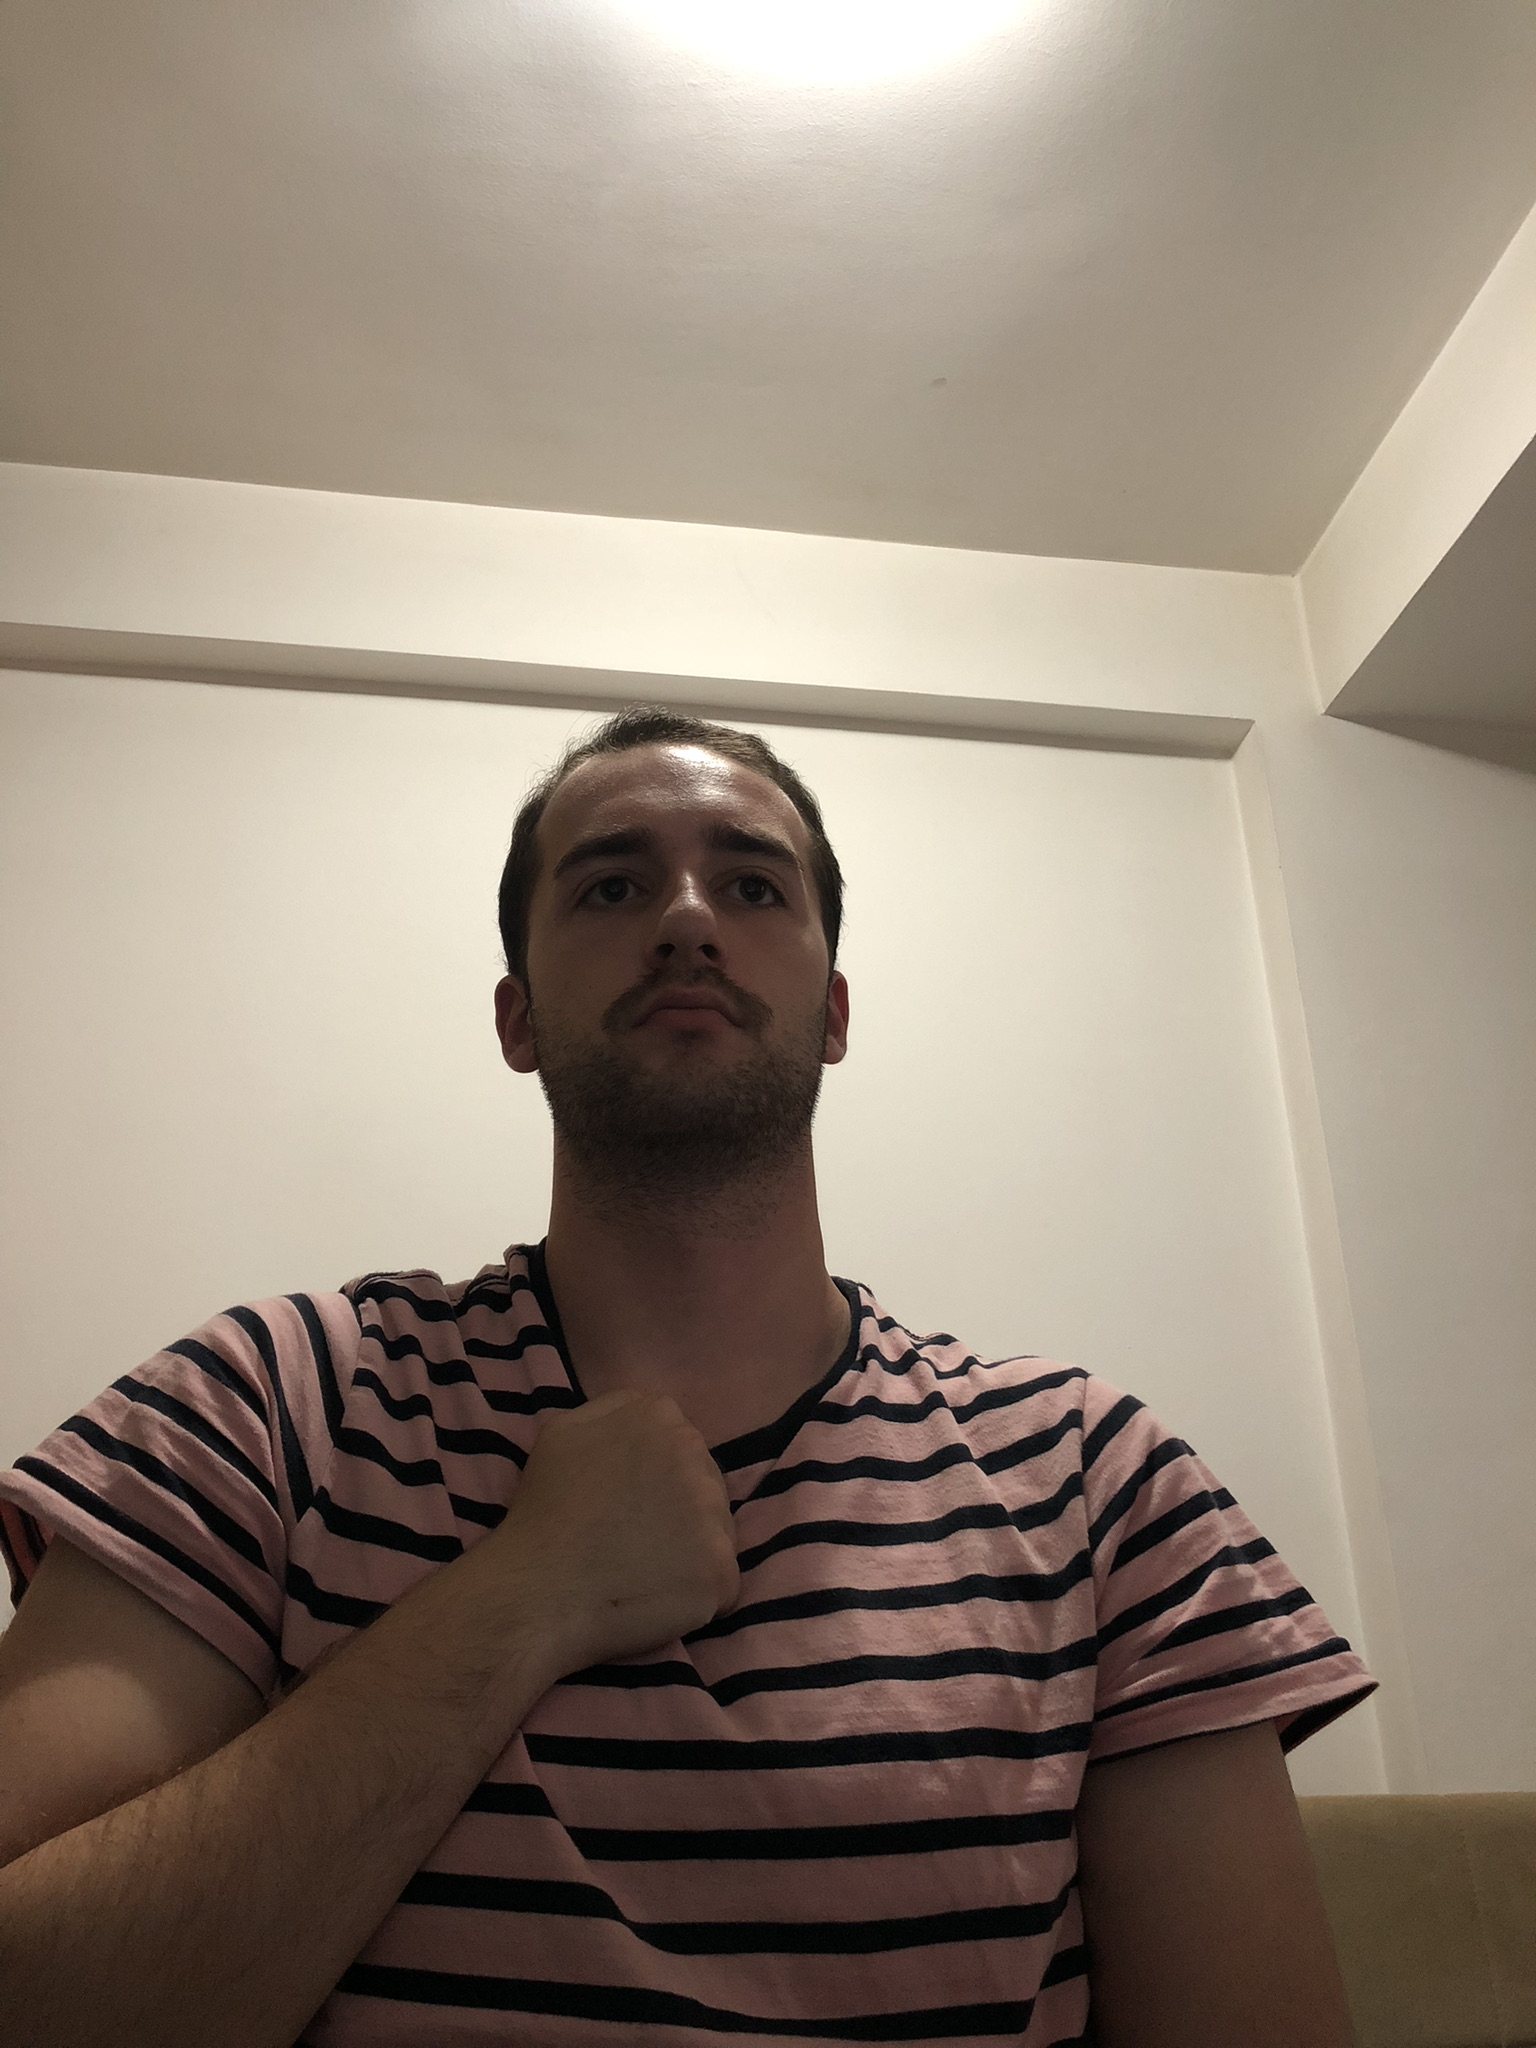Sorry: (6, 1379, 744, 2048)
